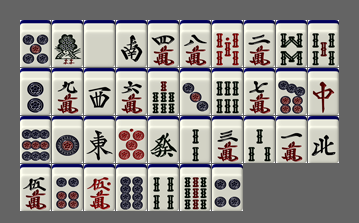0m: (84, 164, 115, 211)
0p: (116, 116, 147, 163)
0s: (212, 20, 243, 67)
1m: (276, 116, 307, 163)
1p: (52, 116, 83, 163)
1s: (52, 20, 83, 67)
1z: (84, 116, 115, 163)
2m: (244, 20, 275, 67)
2p: (20, 68, 51, 115)
2s: (180, 116, 211, 163)
2z: (116, 20, 147, 67)
3m: (212, 116, 243, 163)
3p: (180, 68, 211, 115)
3s: (244, 116, 275, 163)
3z: (84, 68, 115, 115)
4m: (148, 20, 179, 67)
4p: (212, 164, 243, 211)
4s: (148, 164, 179, 211)
4z: (308, 116, 339, 163)
5m: (20, 164, 51, 211)
5p: (20, 20, 51, 67)
5s: (308, 20, 339, 67)
5z: (84, 20, 115, 67)
6m: (116, 68, 147, 115)
6p: (52, 164, 83, 211)
6s: (212, 68, 243, 115)
6z: (148, 116, 179, 163)
7m: (244, 68, 275, 115)
7p: (276, 68, 307, 115)
7s: (148, 68, 179, 115)
7z: (308, 68, 339, 115)
8m: (180, 20, 211, 67)
8p: (116, 164, 147, 211)
8s: (276, 20, 307, 67)
9m: (52, 68, 83, 115)
9p: (20, 116, 51, 163)
9s: (180, 164, 211, 211)
